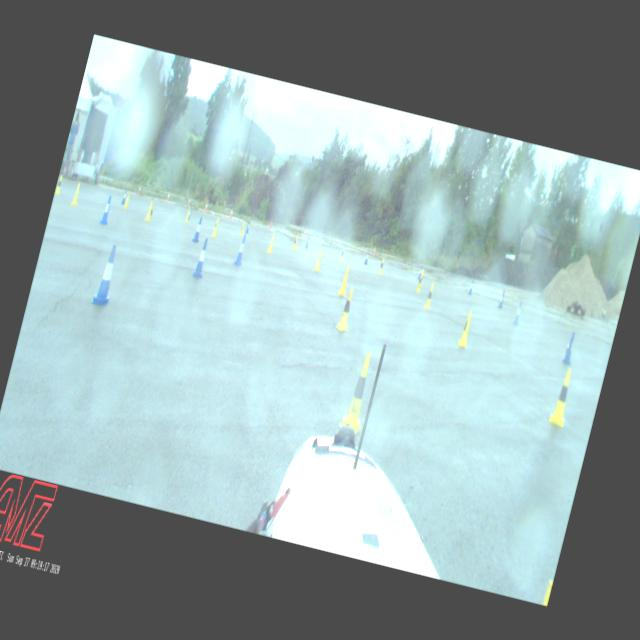blue_cone: (91, 243, 122, 306), (192, 236, 212, 278), (561, 332, 577, 364), (234, 233, 249, 266), (100, 194, 114, 225), (192, 216, 204, 242), (512, 300, 524, 326), (496, 288, 506, 308), (120, 189, 128, 206), (467, 278, 475, 294), (244, 218, 252, 234), (416, 262, 424, 278), (363, 251, 370, 264), (304, 235, 310, 248)
orange_cone: (334, 234, 340, 244), (229, 207, 234, 218), (268, 218, 273, 229), (137, 183, 142, 194), (166, 190, 170, 202), (204, 200, 208, 210), (372, 244, 376, 253), (187, 196, 190, 208), (303, 228, 307, 236)
yellow_cone: (337, 351, 379, 436), (548, 366, 578, 427), (334, 287, 358, 332), (456, 309, 476, 348), (336, 264, 351, 296), (422, 281, 436, 310), (313, 246, 325, 272), (70, 182, 82, 206), (414, 268, 425, 294), (265, 232, 276, 254), (143, 200, 153, 222), (54, 174, 64, 194), (122, 191, 132, 211), (212, 217, 220, 237), (377, 256, 385, 274), (338, 246, 346, 263), (292, 233, 299, 249), (238, 221, 245, 237), (183, 206, 190, 222)
